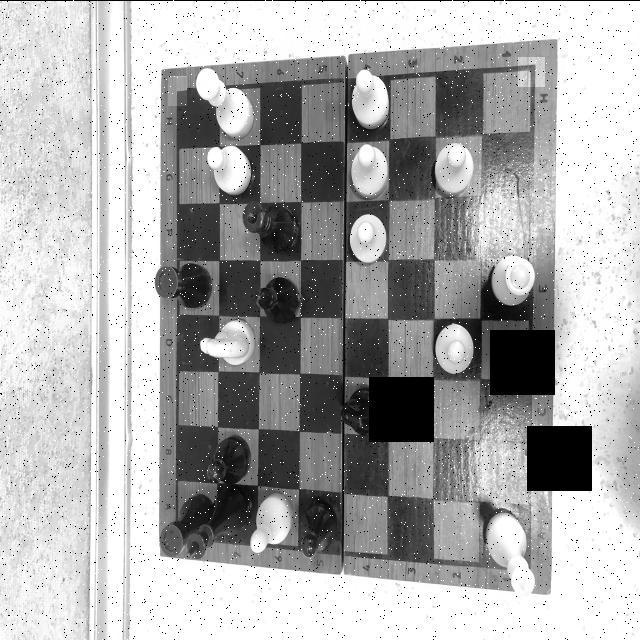chess-table-corners: (518, 56, 545, 86), (168, 74, 187, 104)
